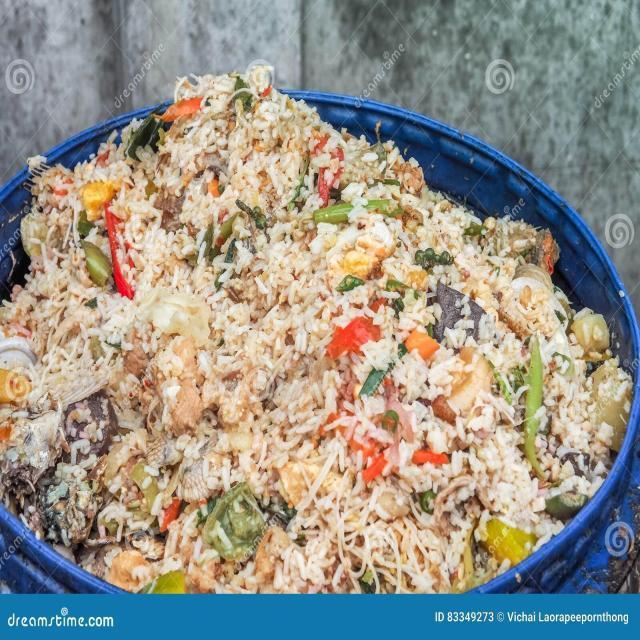Garbage: (0, 58, 636, 594)
